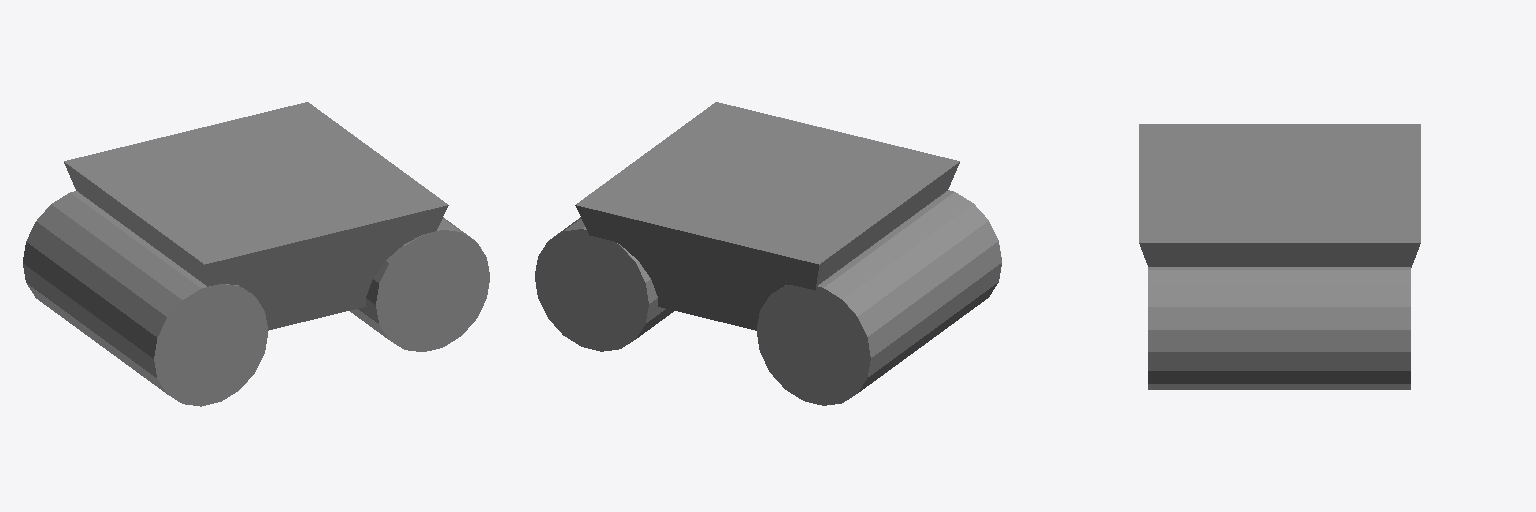
The model's file is capitel_low.obj.
3 views of the same model, side by side, from view 1: azimuth 30°, elevation 25°; view 2: azimuth 150°, elevation 25°; view 3: azimuth 270°, elevation 25° (orthographic).
Visible parts, largest first — view 1: Box001; view 2: Box001; view 3: Box001.
Part boxes in pixels (x1,y1,x2,y2): Box001: (23, 102, 489, 406); Box001: (535, 102, 1001, 405); Box001: (1139, 124, 1420, 389).
Bounding box in the file's own units: 14431 × 5964 × 10479.